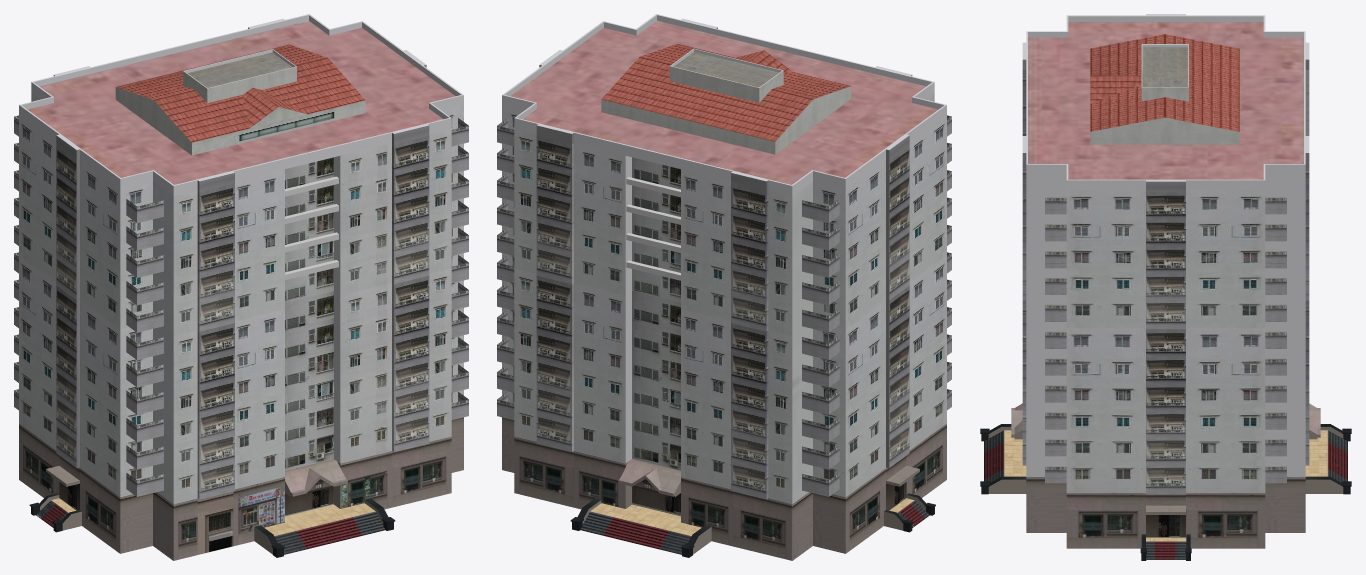
The picture shows the model from 3 angles, left to right: view 1: azimuth 30°, elevation 25°; view 2: azimuth 150°, elevation 25°; view 3: azimuth 270°, elevation 25°; orthographic projection.
Parts seen in each view (by area): view 1: HN1092_ChungCuCT6YenHoa; view 2: HN1092_ChungCuCT6YenHoa; view 3: HN1092_ChungCuCT6YenHoa.
Part boxes in pixels (left/top/right/bottom): HN1092_ChungCuCT6YenHoa: left=14, top=14, right=468, bottom=560; HN1092_ChungCuCT6YenHoa: left=497, top=14, right=951, bottom=560; HN1092_ChungCuCT6YenHoa: left=980, top=14, right=1351, bottom=560.
Bounding box in the file's own units: 52.03 × 50.89 × 42.84.
Materials: 1 (1 with a texture image).
